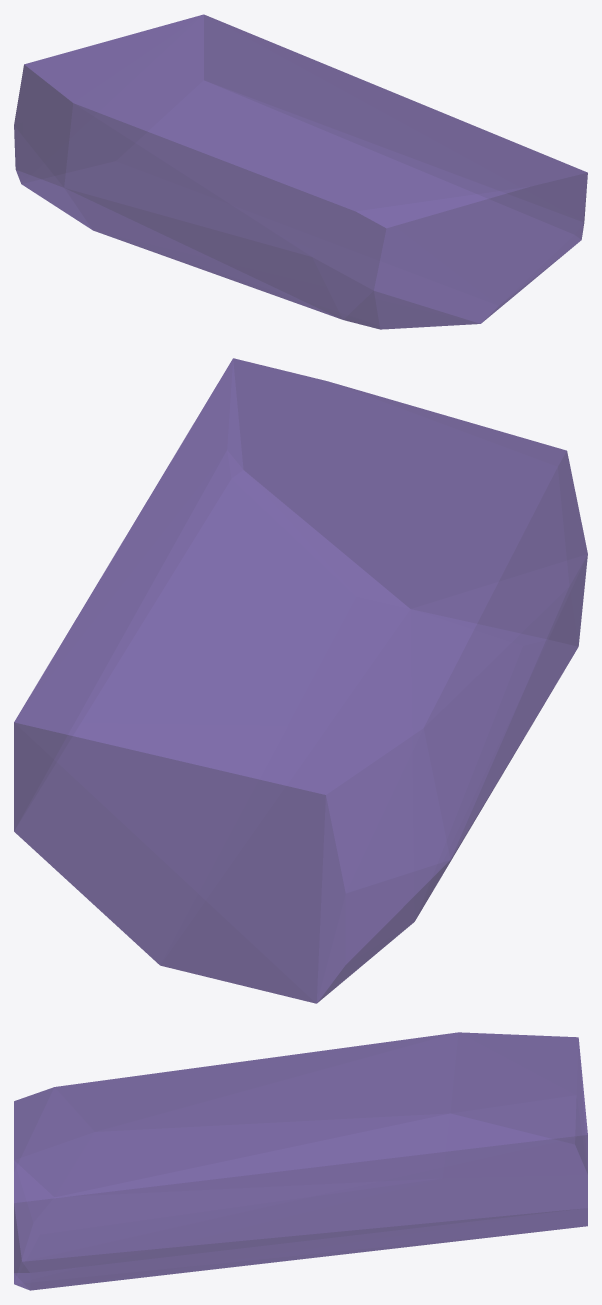
3 views of the same model, one above another, from view 1: azimuth 30°, elevation 25°; view 2: azimuth 150°, elevation 25°; view 3: azimuth 270°, elevation 25° (orthographic). The views are drawn at different scales.
Parts seen in each view (by area): view 1: Shape_IndexedFaceSet.012_Shape_IndexedFaceSet.9147; view 2: Shape_IndexedFaceSet.012_Shape_IndexedFaceSet.9147; view 3: Shape_IndexedFaceSet.012_Shape_IndexedFaceSet.9147.
Part boxes in pixels (left/top/right/bottom): Shape_IndexedFaceSet.012_Shape_IndexedFaceSet.9147: left=14, top=14, right=587, bottom=329; Shape_IndexedFaceSet.012_Shape_IndexedFaceSet.9147: left=14, top=358, right=587, bottom=1003; Shape_IndexedFaceSet.012_Shape_IndexedFaceSet.9147: left=14, top=1032, right=587, bottom=1290.
Bounding box in the file's own units: 0.1396 × 0.051 × 0.1906.
